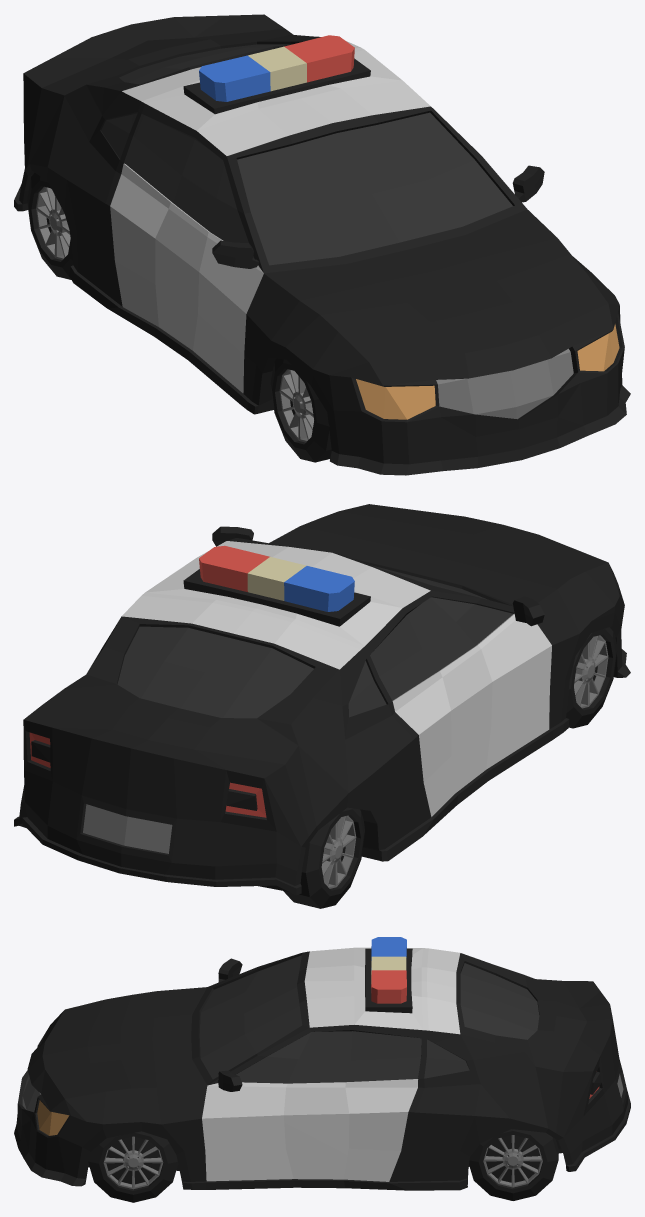
File: Cop.glb
3 views of the same model, one above another, from view 1: azimuth 30°, elevation 25°; view 2: azimuth 150°, elevation 25°; view 3: azimuth 270°, elevation 25° (orthographic). The views are drawn at different scales.
Parts seen in each view (by area): view 1: Cop.obj; view 2: Cop.obj; view 3: Cop.obj.
Part boxes in pixels (left/top/right/bottom): Cop.obj: left=14, top=14, right=630, bottom=475; Cop.obj: left=14, top=504, right=630, bottom=908; Cop.obj: left=14, top=937, right=630, bottom=1202.
Size of the model in its own units: 1.78 by 1.24 by 3.73.
